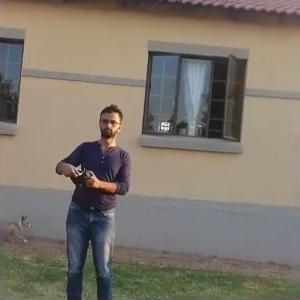follow: (52, 94, 138, 298)
null: (0, 205, 35, 246)
